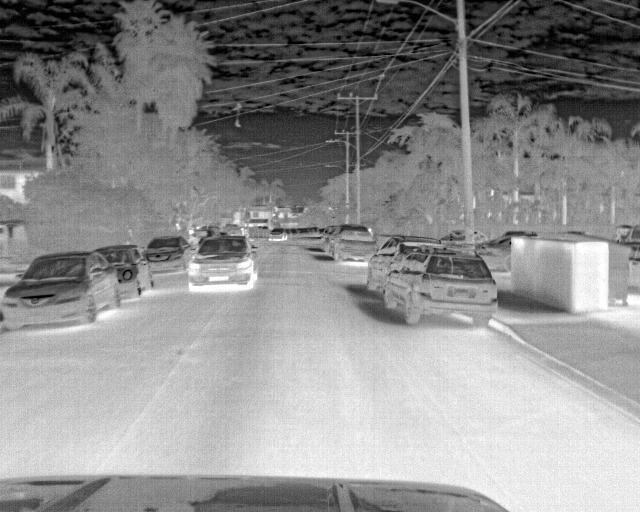car: (381, 246, 498, 328), (1, 250, 118, 330), (363, 236, 441, 297), (186, 235, 254, 287), (95, 244, 153, 298), (477, 229, 535, 273), (142, 235, 190, 280), (330, 224, 379, 258), (267, 225, 290, 240)
